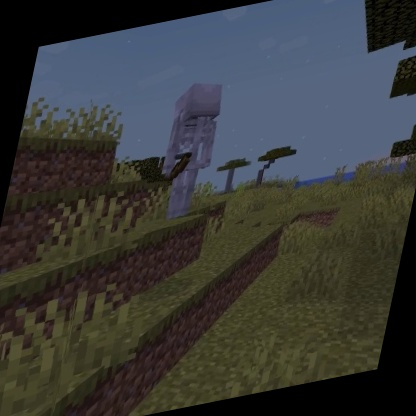skeleton: (143, 72, 234, 230)
